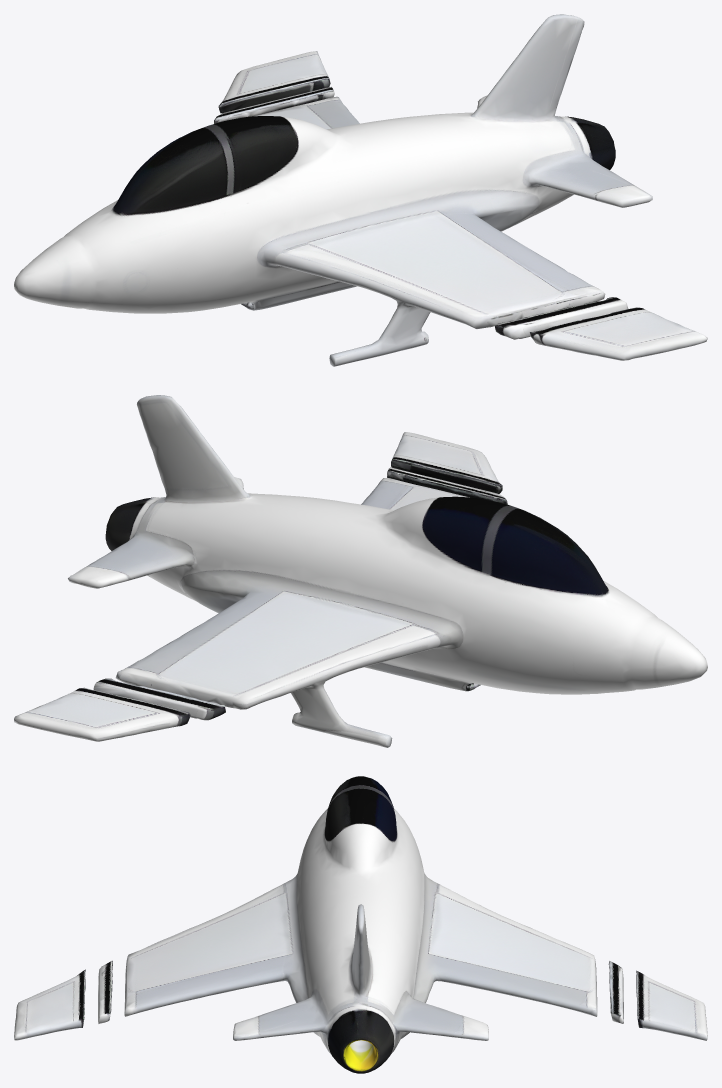
Rendered from Meshy_AI_Dawn_Glide_0224114312_texture.fbx.
The picture shows the model from 3 angles, top to bottom: view 1: azimuth 30°, elevation 25°; view 2: azimuth 150°, elevation 25°; view 3: azimuth 270°, elevation 25°; orthographic projection. The views are drawn at different scales.
Parts seen in each view (by area): view 1: Mesh_0; view 2: Mesh_0; view 3: Mesh_0.
Boxes of the visible parts, <box> form: Mesh_0: <box>14,14,707,366</box>; Mesh_0: <box>14,395,707,747</box>; Mesh_0: <box>14,776,707,1073</box>.
Bounding box in the file's own units: 166 × 56.97 × 191.
Materials: 1 (1 with a texture image).
